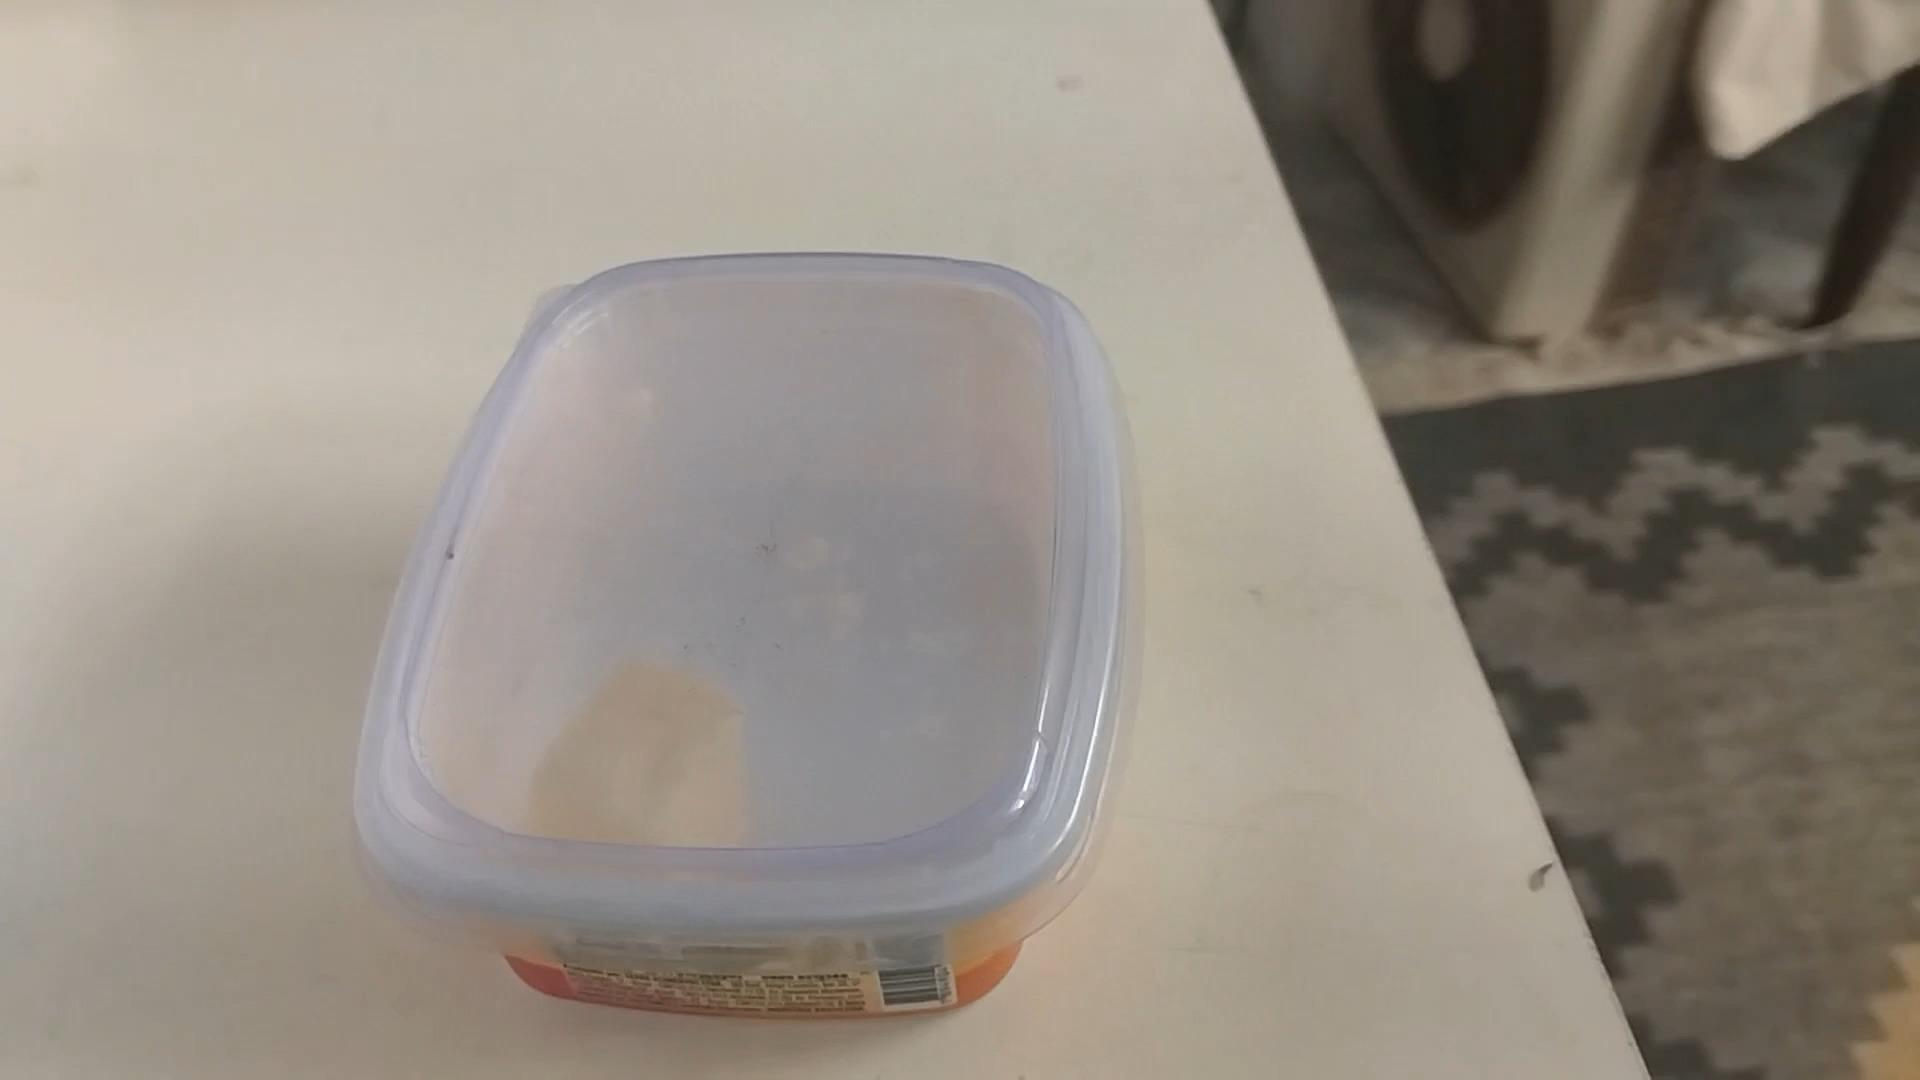butter: (355, 258, 1124, 1017)
